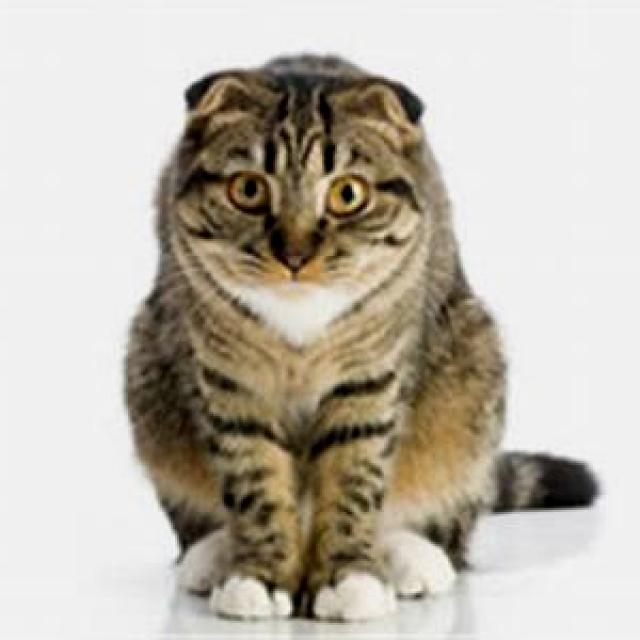KEDI: (111, 53, 593, 640)
